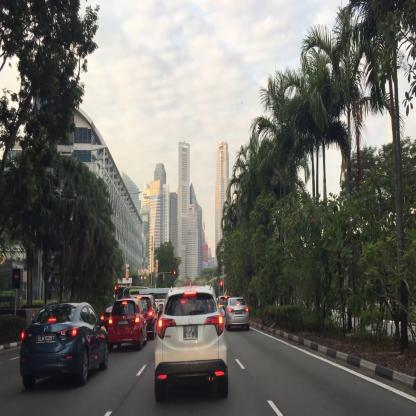red_traffic_light: (220, 282, 223, 290), (115, 286, 117, 294), (172, 270, 175, 274)
